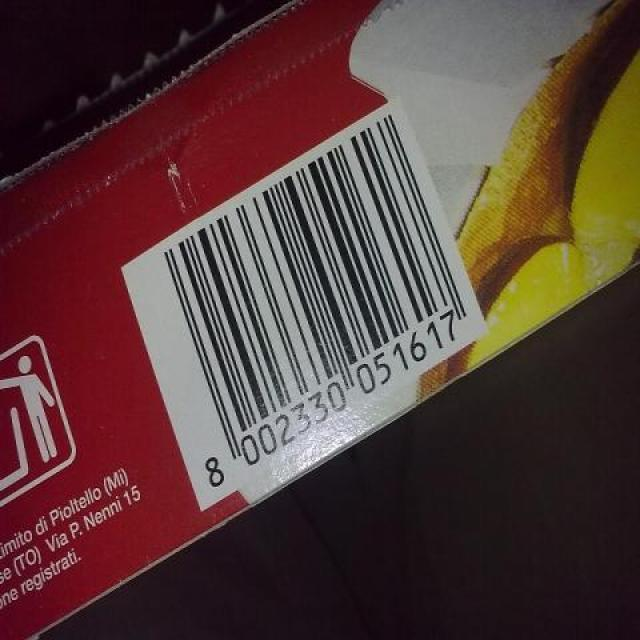Barcode: (120, 95, 489, 513)
